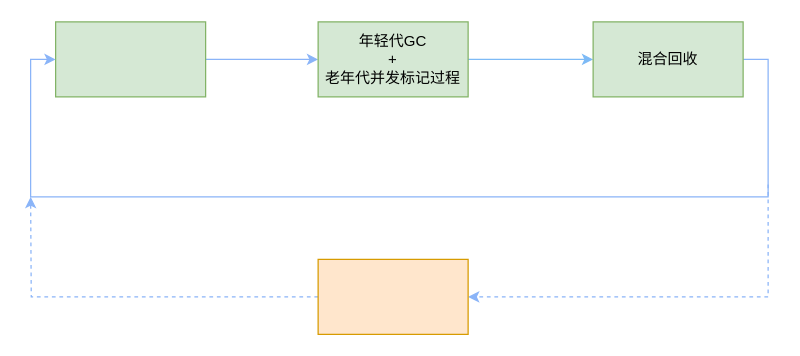
The diagram is 800 pixels wide and 356 high, and some of its shapes have lost their labels. Here are the shapes that lost their labels. From the top down, the centre of each, then its label:
At [130,59]: "年轻代GC".
At [392,296]: "Full GC".
